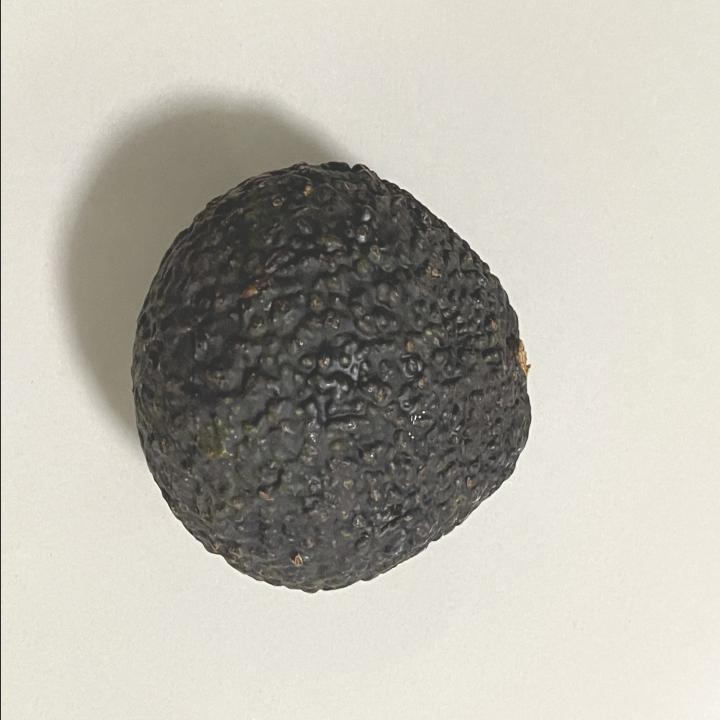Level1: (121, 148, 545, 608)
